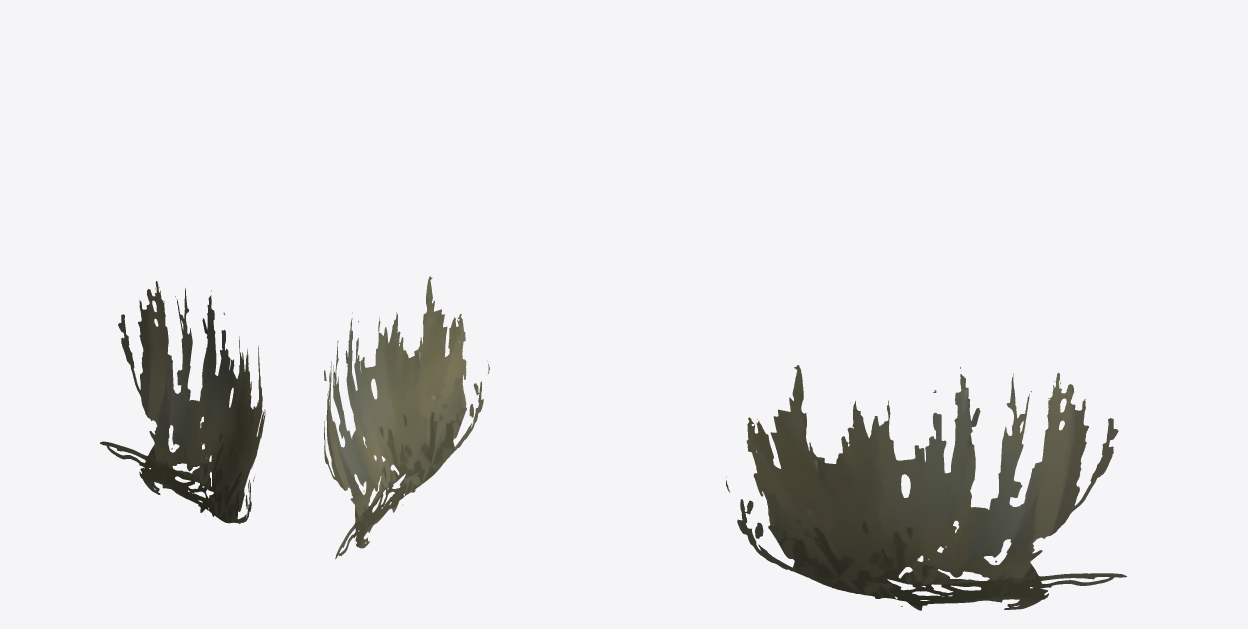
The picture shows the model from 3 angles, left to right: view 1: azimuth 30°, elevation 25°; view 2: azimuth 150°, elevation 25°; view 3: azimuth 270°, elevation 25°; orthographic projection. The views are drawn at different scales.
Parts seen in each view (by area): view 1: body0_model0_lod0_mesh0; view 2: body0_model0_lod0_mesh0; view 3: body0_model0_lod0_mesh0.
Part boxes in pixels (<box>): body0_model0_lod0_mesh0: <box>100,281,265,523</box>; body0_model0_lod0_mesh0: <box>324,276,489,559</box>; body0_model0_lod0_mesh0: <box>726,365,1126,610</box>.
Bounding box in the file's own units: 23.91 × 92.25 × 90.
1 material, 1 textured.
